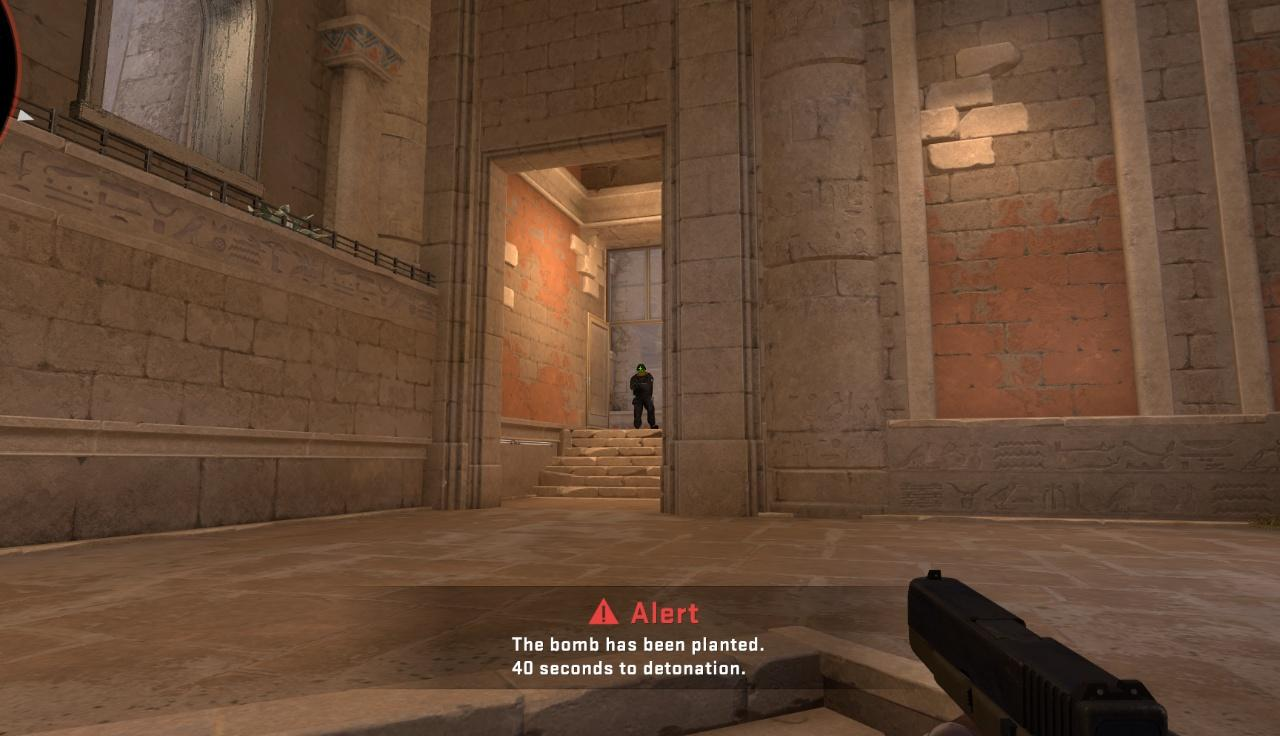ct: (628, 362, 658, 429)
cthead: (636, 364, 646, 376)
pistol: (904, 571, 1173, 734)
